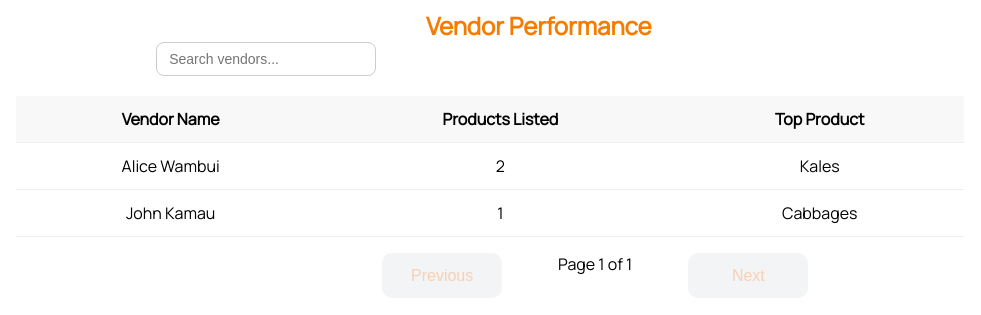
Test: VendorPerformance › displays 'Vendor not found' for unmatched search
This screenshot has width=981, height=315.
Type "Zach" into the field with placeholder "Search vendors...". click: {"x": 266, "y": 59}
box: [156,42,376,76]
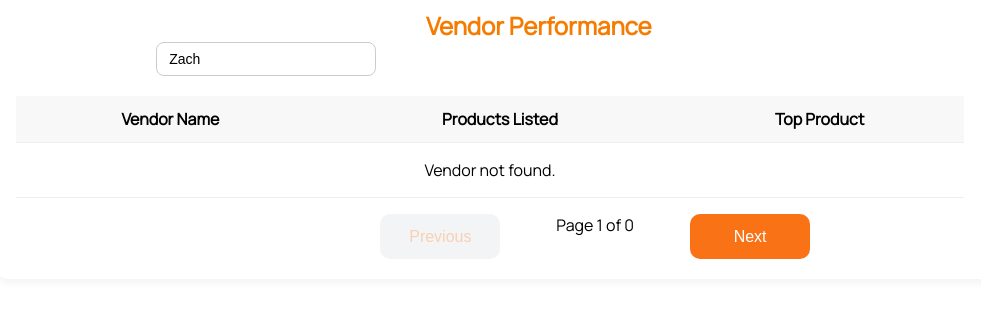
Result: the text "Vendor not found." is shown at [16,142,964,198]
